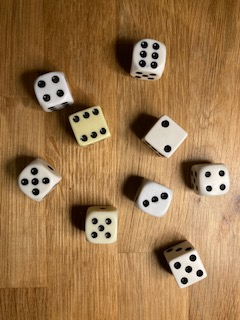five: (162, 239, 209, 288), (16, 157, 64, 203), (83, 204, 120, 245)
four: (33, 70, 75, 113), (189, 160, 232, 199)
six: (67, 103, 113, 150), (127, 38, 168, 82)
three: (133, 178, 175, 218)
two: (140, 113, 190, 161)
